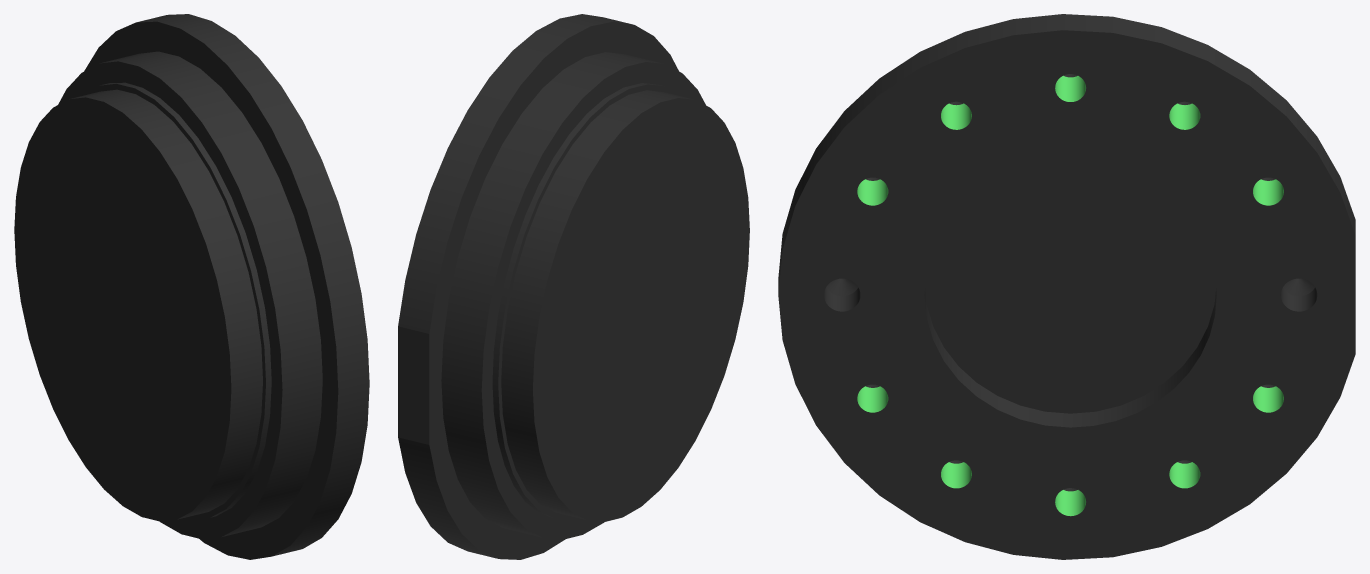
3 renders of one model, left to right at view 1: azimuth 30°, elevation 25°; view 2: azimuth 150°, elevation 25°; view 3: azimuth 270°, elevation 25°, orthographic. The views are drawn at different scales.
Visible parts, largest first — view 1: 3D_J6_AllCATPart; view 2: 3D_J6_AllCATPart; view 3: 3D_J6_AllCATPart.
Part boxes in pixels (x1,y1,x2,y2): 3D_J6_AllCATPart: (14,14,369,559); 3D_J6_AllCATPart: (398,14,749,559); 3D_J6_AllCATPart: (778,14,1355,559).
Size of the model in its own units: 36.5 by 160 by 158.
